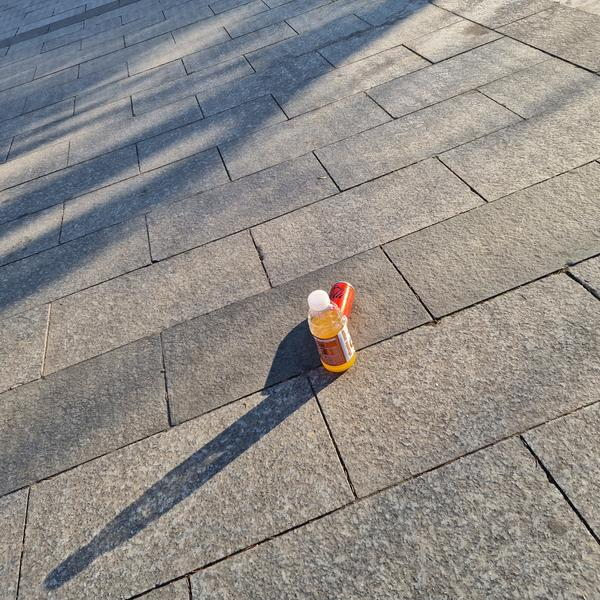can: (325, 277, 358, 319)
plastic_bottle: (297, 283, 364, 378)
